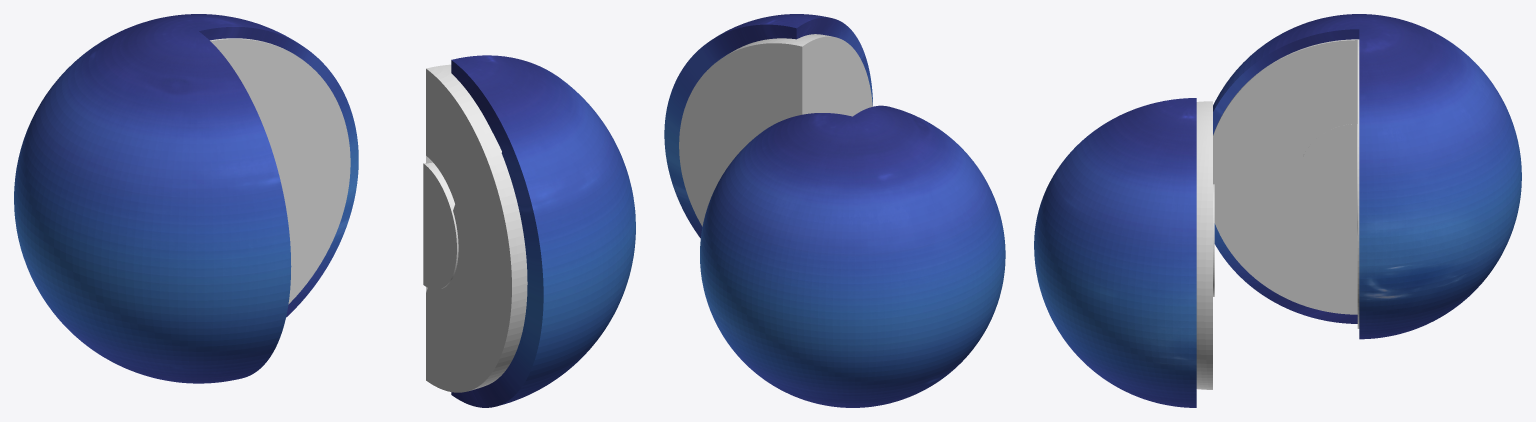
Rendered from neptunus.fbx.
3 renders of one model, left to right at view 1: azimuth 30°, elevation 25°; view 2: azimuth 150°, elevation 25°; view 3: azimuth 270°, elevation 25°, orthographic. The views are drawn at different scales.
Parts seen in each view (by area): view 1: merkurius, Sphere.001, Sphere.008, liquid metalic hydrogen, core; view 2: merkurius, Sphere.008, Sphere.001; view 3: merkurius, Sphere.001, liquid metalic hydrogen, core.001, Sphere.008.
Boxes of the visible parts, x1=… form: merkurius: x1=14, y1=14, x2=358, y2=383; Sphere.001: x1=451, y1=55, x2=635, y2=407; Sphere.008: x1=426, y1=64, x2=527, y2=392; liquid metalic hydrogen: x1=210, y1=38, x2=350, y2=304; core: x1=423, y1=162, x2=458, y2=289; merkurius: x1=700, y1=105, x2=1005, y2=407; Sphere.008: x1=679, y1=34, x2=872, y2=226; Sphere.001: x1=664, y1=14, x2=872, y2=238; merkurius: x1=1213, y1=14, x2=1521, y2=339; Sphere.001: x1=1034, y1=98, x2=1196, y2=407; liquid metalic hydrogen: x1=1213, y1=39, x2=1359, y2=328; core.001: x1=1298, y1=124, x2=1357, y2=236; Sphere.008: x1=1196, y1=101, x2=1212, y2=389.
Size of the model in its own units: 300 by 200 by 300.
Materials: 4 (2 with a texture image).
